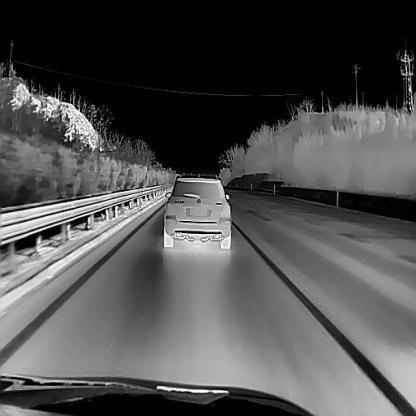car: (163, 174, 231, 249)
